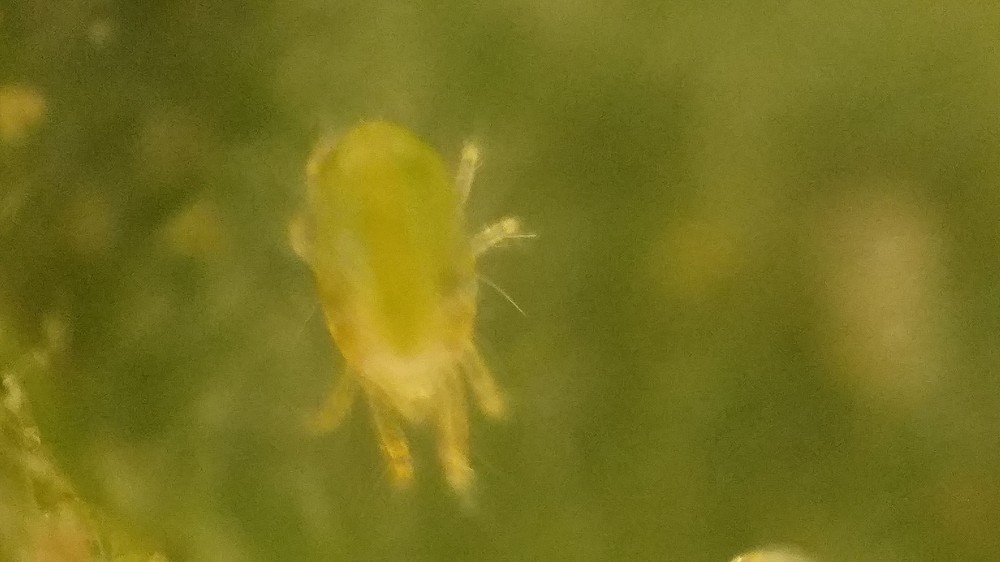Aracnido Rojo: (243, 103, 589, 514)
